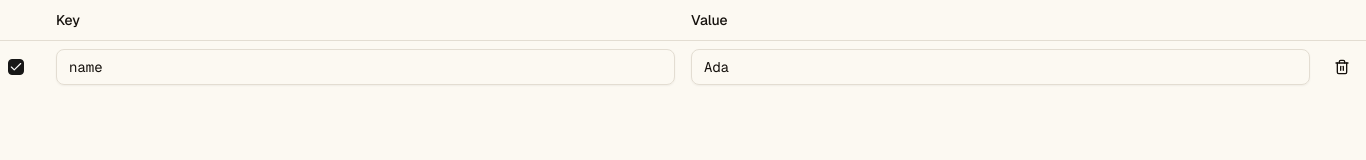
edits, toggles, removes, and empties explicit key/value rows
Replace the text in the field named "Form body value 1" with "Lovelace" at [1000, 66], box [691,48,1310,84]
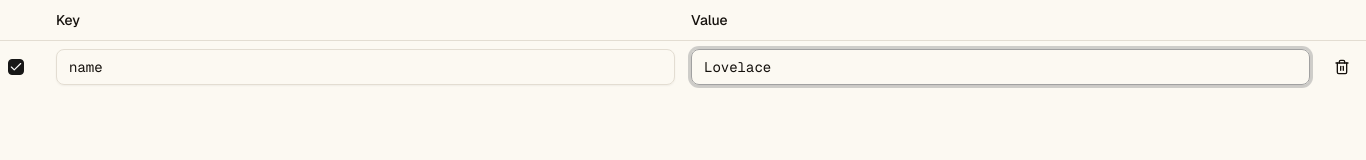
Click the checkbox named "Enable name" at [16, 66], box [8,58,24,74]
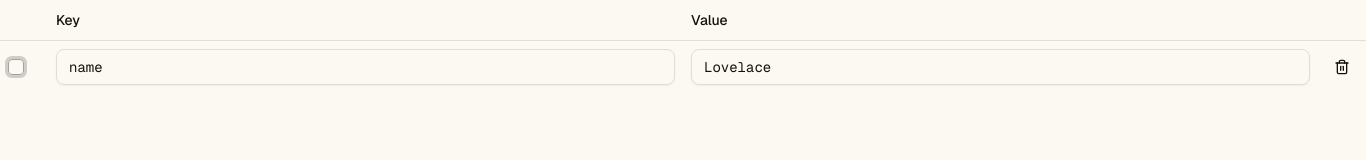
Now the checkbox named "Enable name" is not checked, box [8,58,24,74]
Click the button named "Remove name" at [1342, 66], box [1326,50,1358,82]
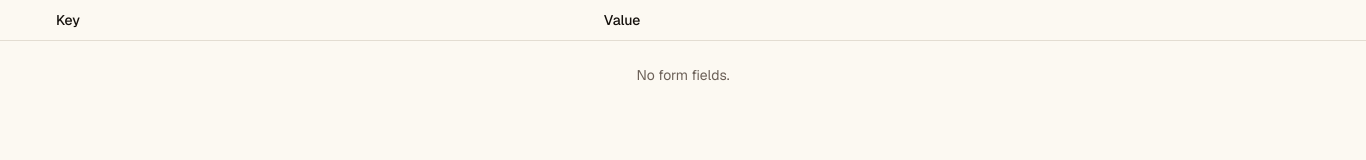
Now the text "No form fields." is shown, box [0,40,1365,108]
